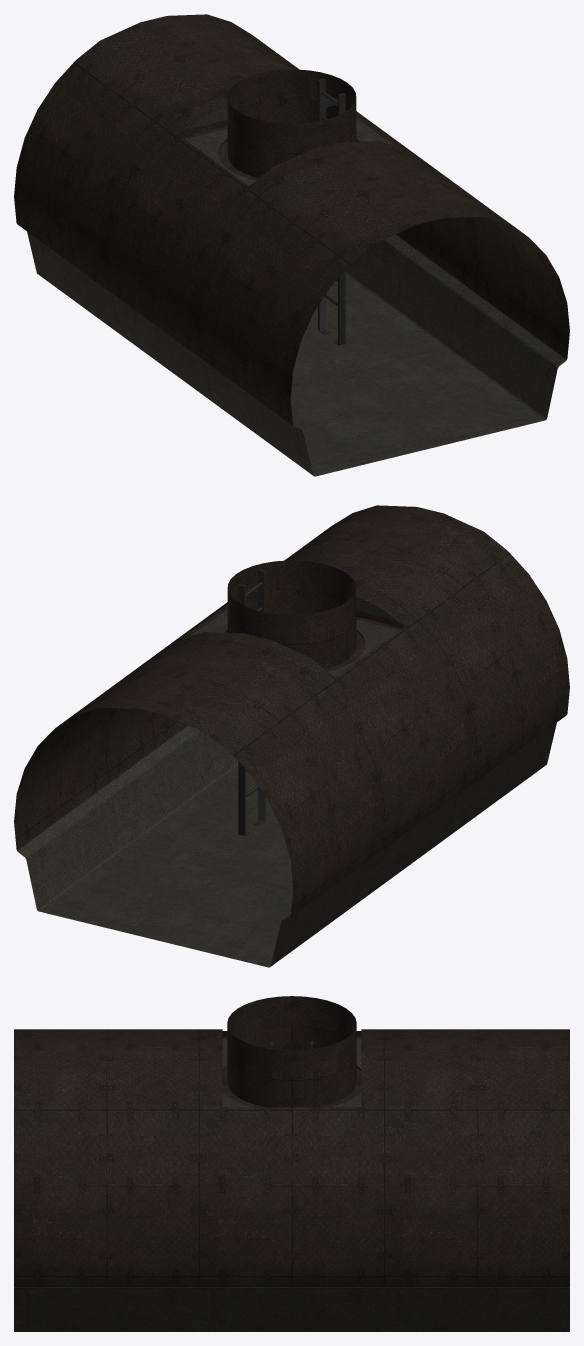
File: tunnel_manhole_shaft_beginning_1.obj
3 renders of one model, top to bottom at view 1: azimuth 30°, elevation 25°; view 2: azimuth 150°, elevation 25°; view 3: azimuth 270°, elevation 25°, orthographic.
Parts seen in each view (by area): view 1: tunnel_manhole_shaft_beginning_1, shaft_beginning_ladder; view 2: tunnel_manhole_shaft_beginning_1, shaft_beginning_ladder; view 3: tunnel_manhole_shaft_beginning_1.
Boxes of the visible parts, box(x1,y1,x2,y2) form: tunnel_manhole_shaft_beginning_1: box(14, 14, 569, 476); shaft_beginning_ladder: box(318, 78, 345, 345); tunnel_manhole_shaft_beginning_1: box(14, 505, 569, 967); shaft_beginning_ladder: box(238, 569, 265, 836); tunnel_manhole_shaft_beginning_1: box(14, 996, 569, 1331).
Bounding box in the file's own units: 3.5 × 3 × 6.
